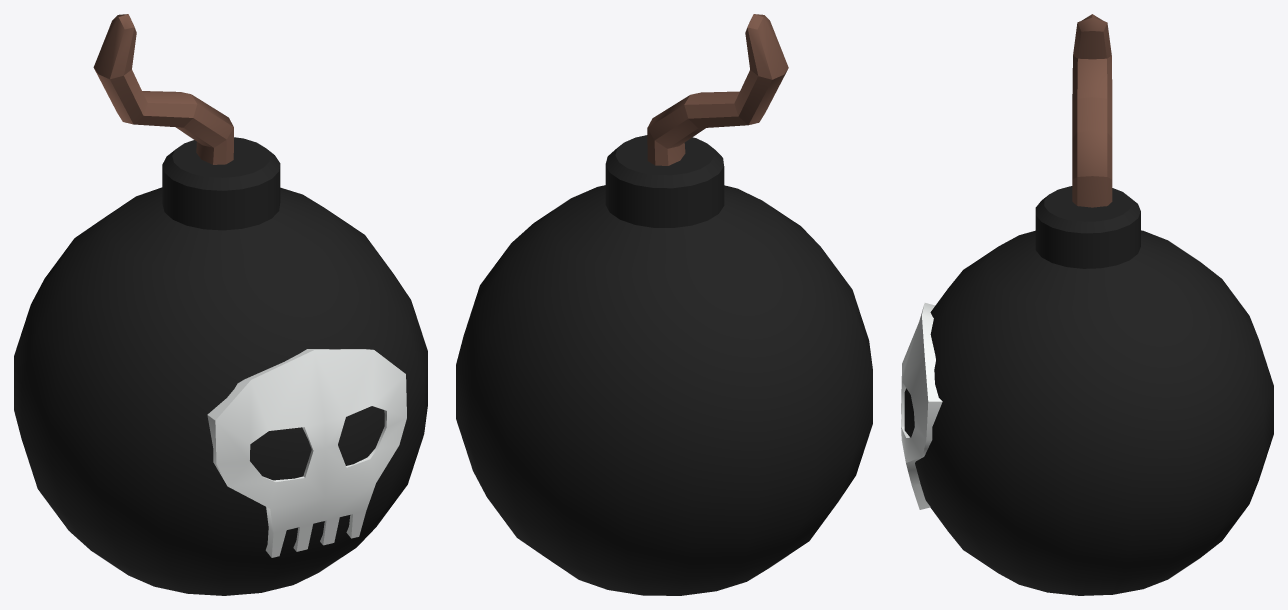
The model's file is bomb.fbx.
3 renders of one model, left to right at view 1: azimuth 30°, elevation 25°; view 2: azimuth 150°, elevation 25°; view 3: azimuth 270°, elevation 25°, orthographic. The views are drawn at different scales.
Parts seen in each view (by area): view 1: Bomb; view 2: Bomb; view 3: Bomb.
Part boxes in pixels (bbox=[...]): Bomb: bbox=[14, 14, 427, 595]; Bomb: bbox=[456, 14, 872, 595]; Bomb: bbox=[901, 14, 1273, 595].
Bounding box in the file's own units: 2.52 × 3.92 × 2.53.
1 material, 1 textured.
